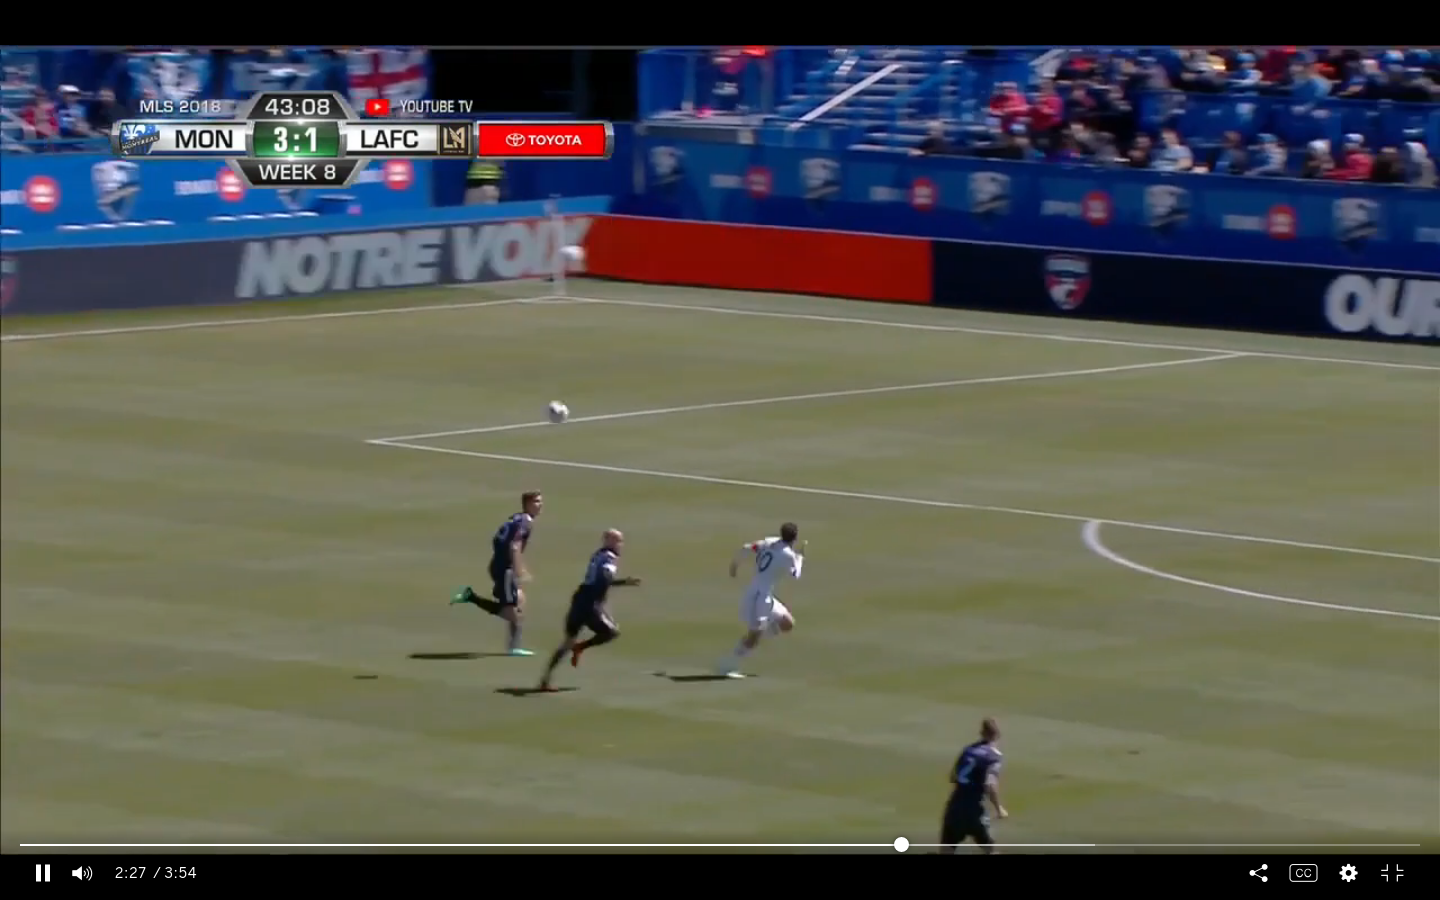soccer player: (445, 479, 552, 660), (535, 523, 633, 700), (718, 516, 815, 688), (933, 716, 1016, 845)
soccerball: (544, 394, 575, 426)
